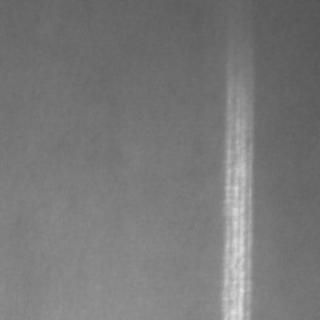scratches: (214, 58, 254, 314)
